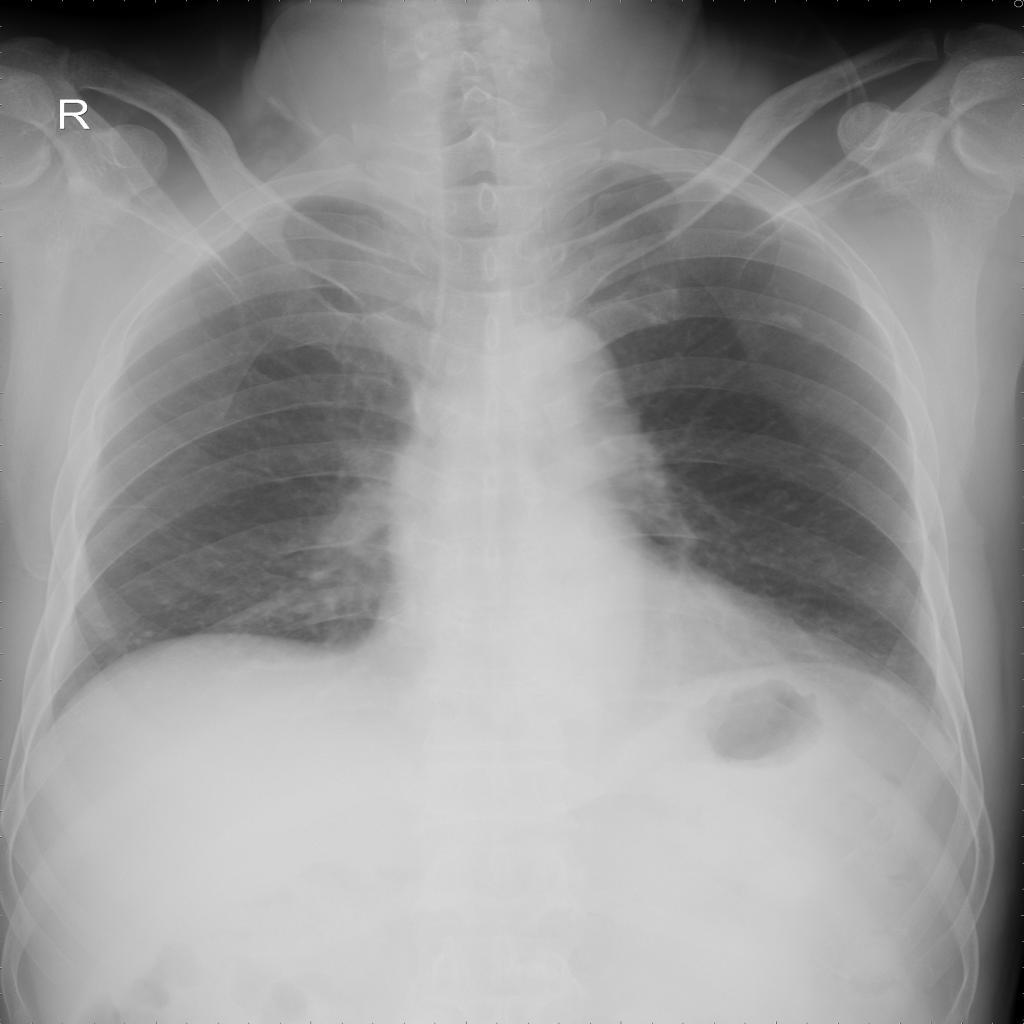Nodule: (771, 311, 805, 327)
